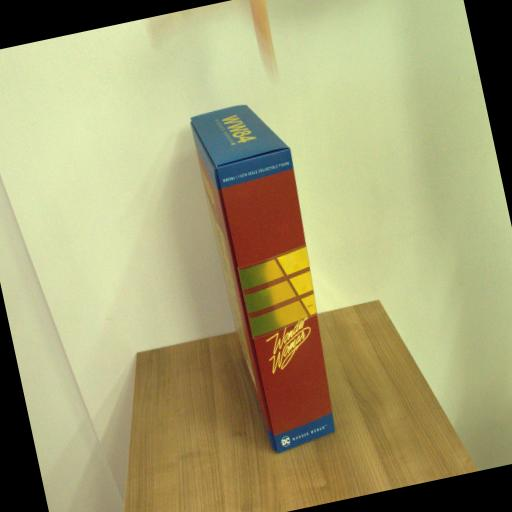WonderWoman: (186, 93, 352, 455)
